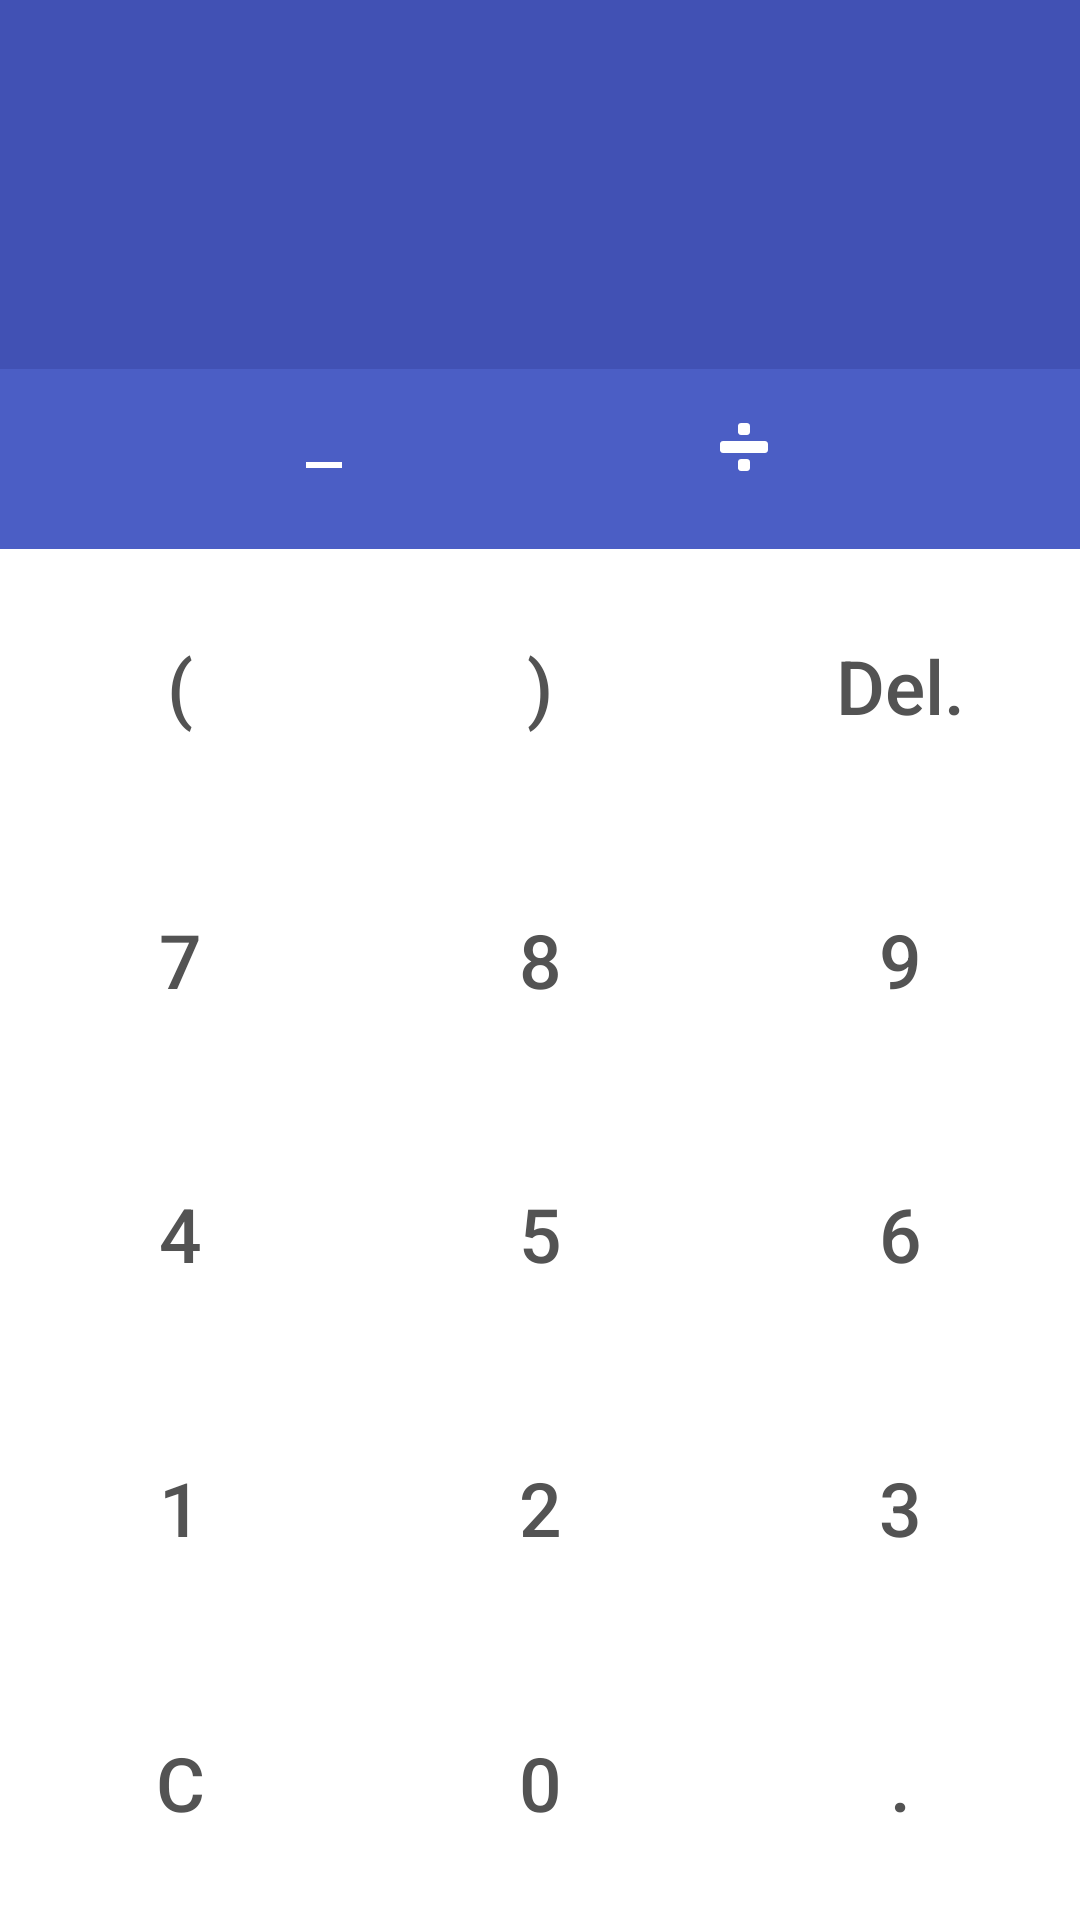

Icons on this 1080×1920 Android screen, each with the point to tap as (x,y):
division: (744,447)
